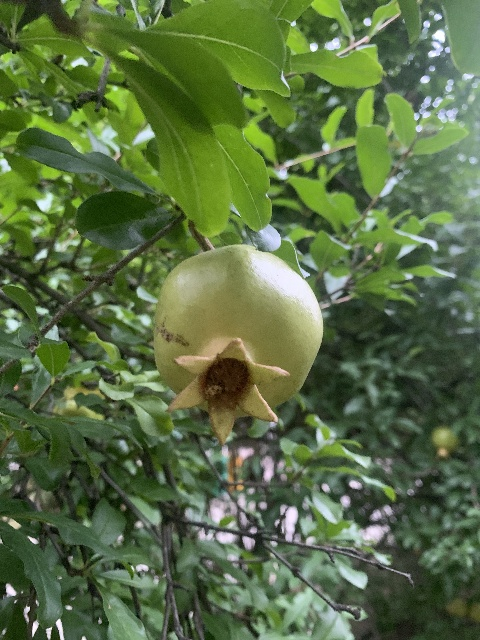mid-growth: (151, 243, 323, 447), (430, 426, 459, 459)
